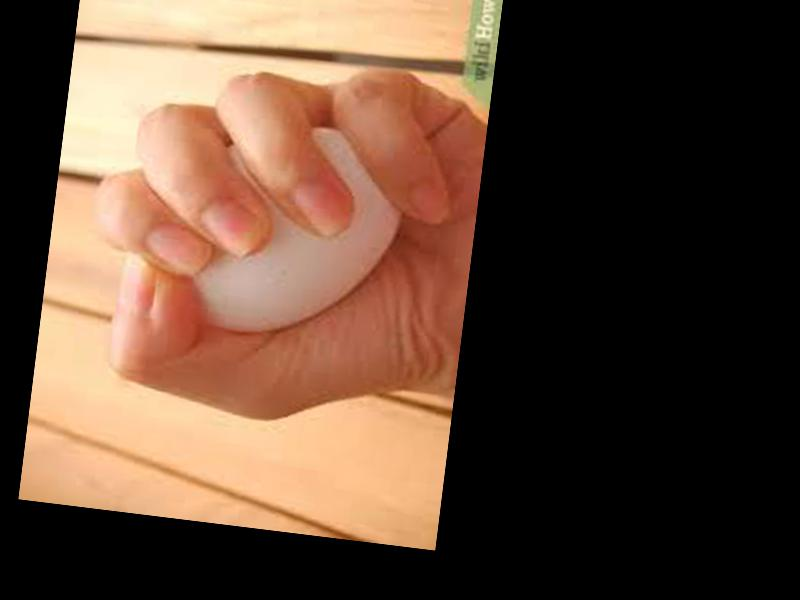Eggs: (187, 112, 410, 351)
